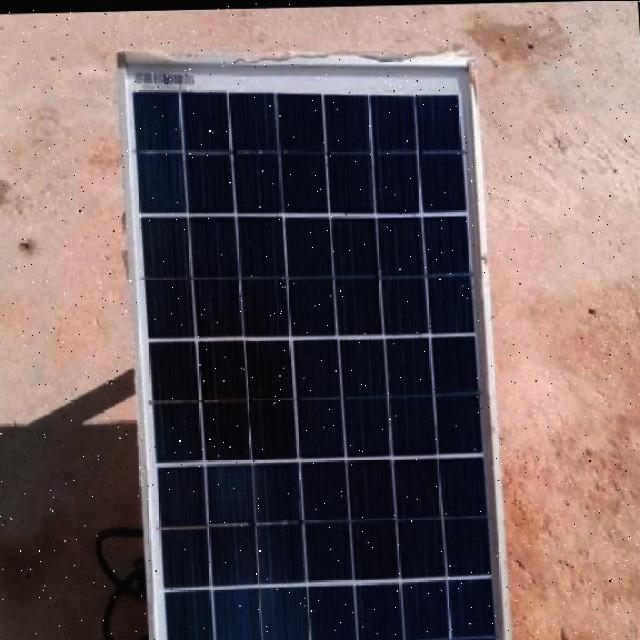Normal Solar Panel: (122, 49, 520, 640)
